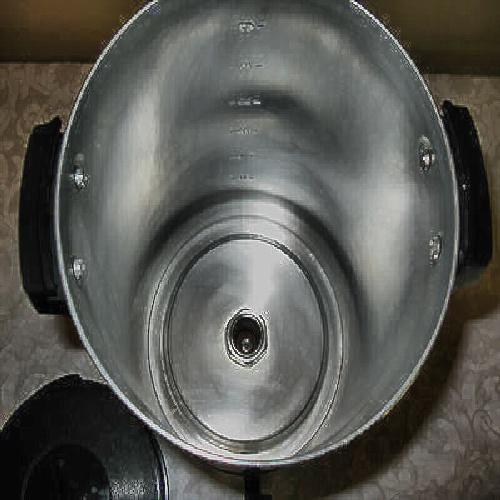coffee_maker: (54, 20, 465, 468)
